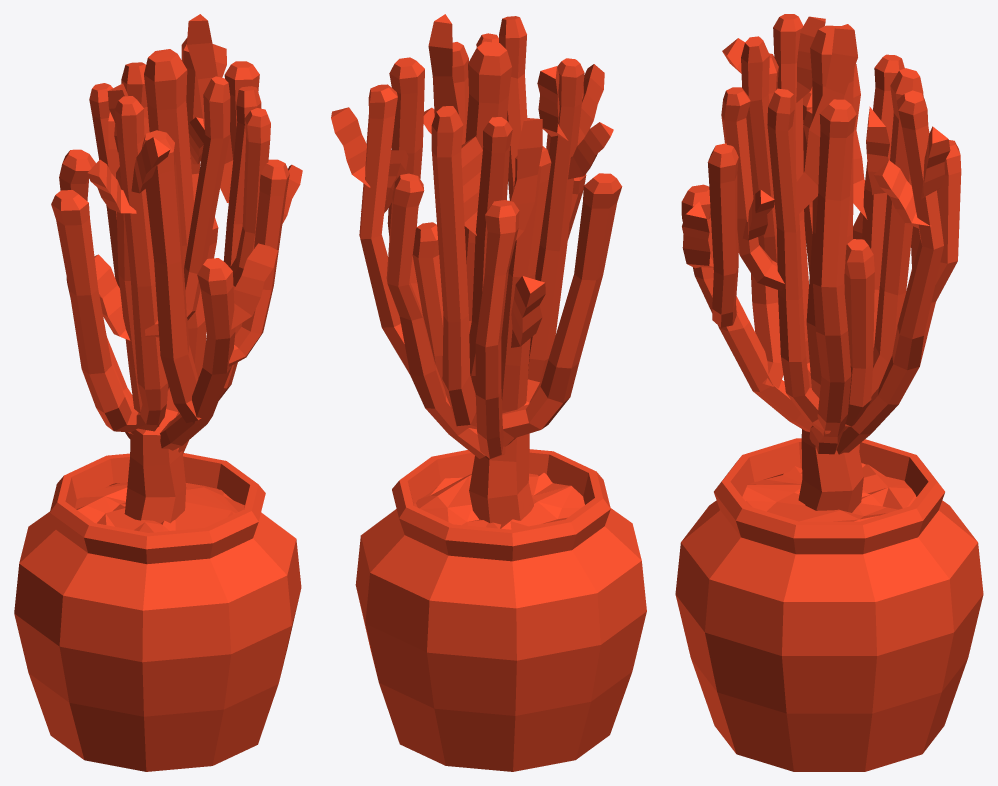
File: SM_Flowerpot_B_Filled.fbx
3 renders of one model, left to right at view 1: azimuth 30°, elevation 25°; view 2: azimuth 150°, elevation 25°; view 3: azimuth 270°, elevation 25°, orthographic. The views are drawn at different scales.
Parts seen in each view (by area): view 1: SM_Flowerpot_B_Filled; view 2: SM_Flowerpot_B_Filled; view 3: SM_Flowerpot_B_Filled.
Boxes of the visible parts, <box> form: SM_Flowerpot_B_Filled: <box>14,14,302,771</box>; SM_Flowerpot_B_Filled: <box>331,14,646,771</box>; SM_Flowerpot_B_Filled: <box>675,14,983,771</box>.
Size of the model in its own units: 0.7624 by 2.08 by 0.8016.
